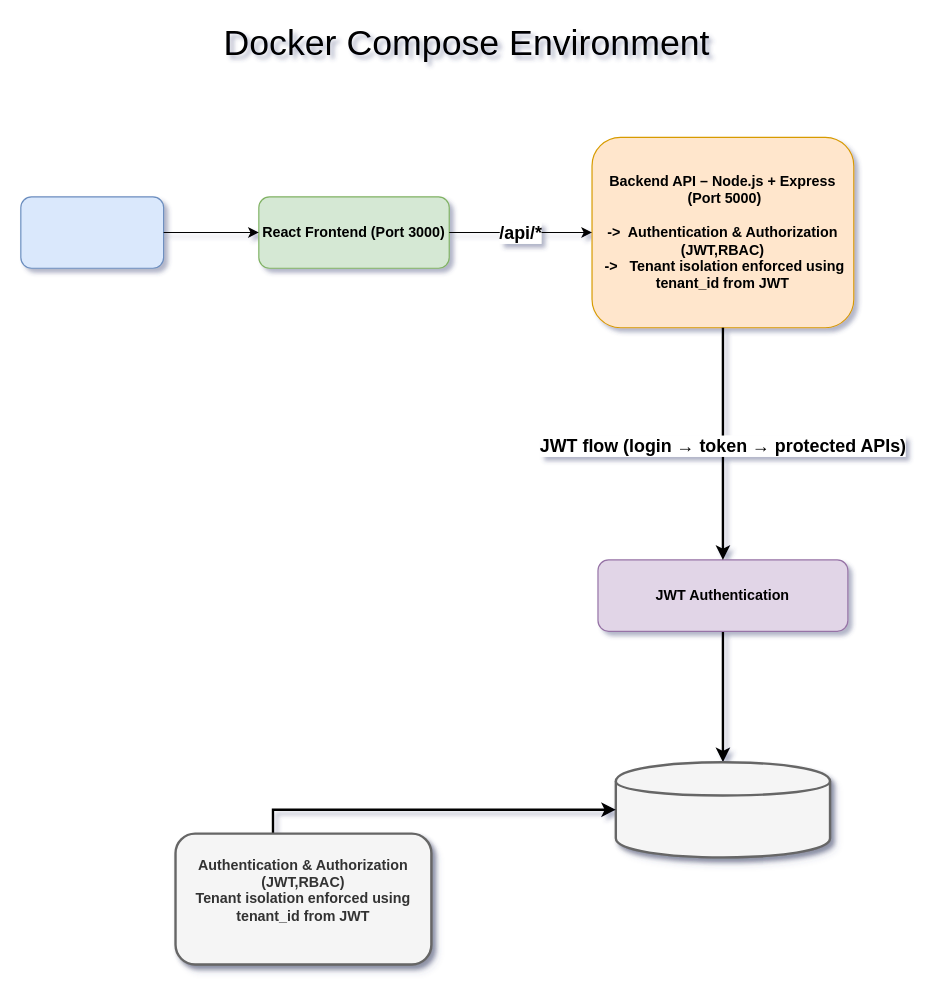
Image size: 934x1001. Some labels were removed from this diagram. Each missing label, with the centre of its shape:
Client (Browser): pixel 92 232
PostgreSQL Database (Port 5432): pixel 723 811
